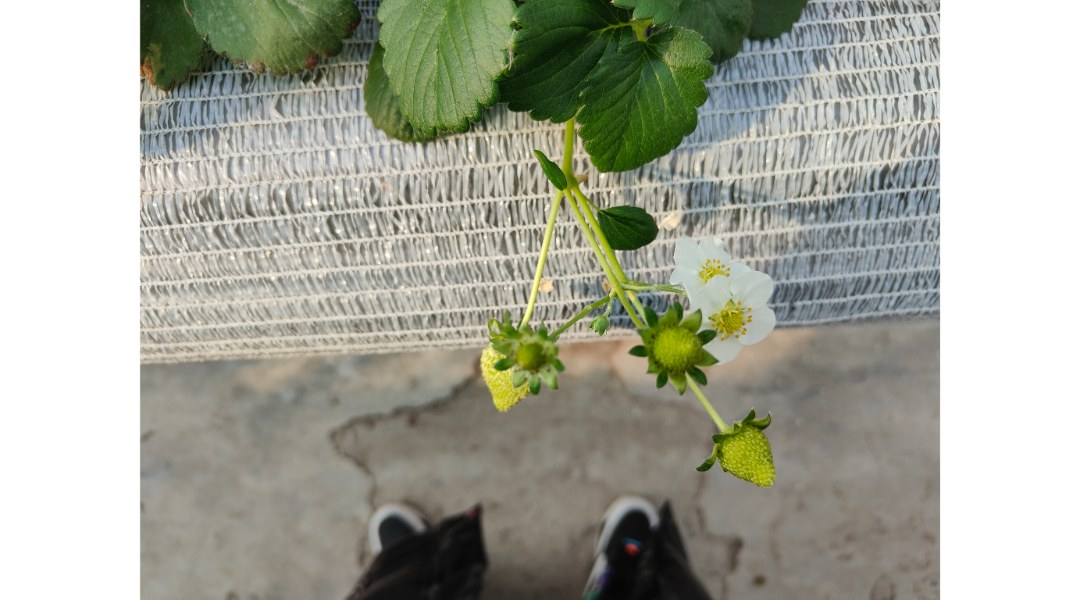berry: (468, 311, 561, 414), (632, 302, 717, 383), (713, 420, 777, 490)
flower: (662, 218, 741, 305), (706, 270, 779, 363)
strain: (515, 201, 559, 323), (556, 113, 587, 184)
